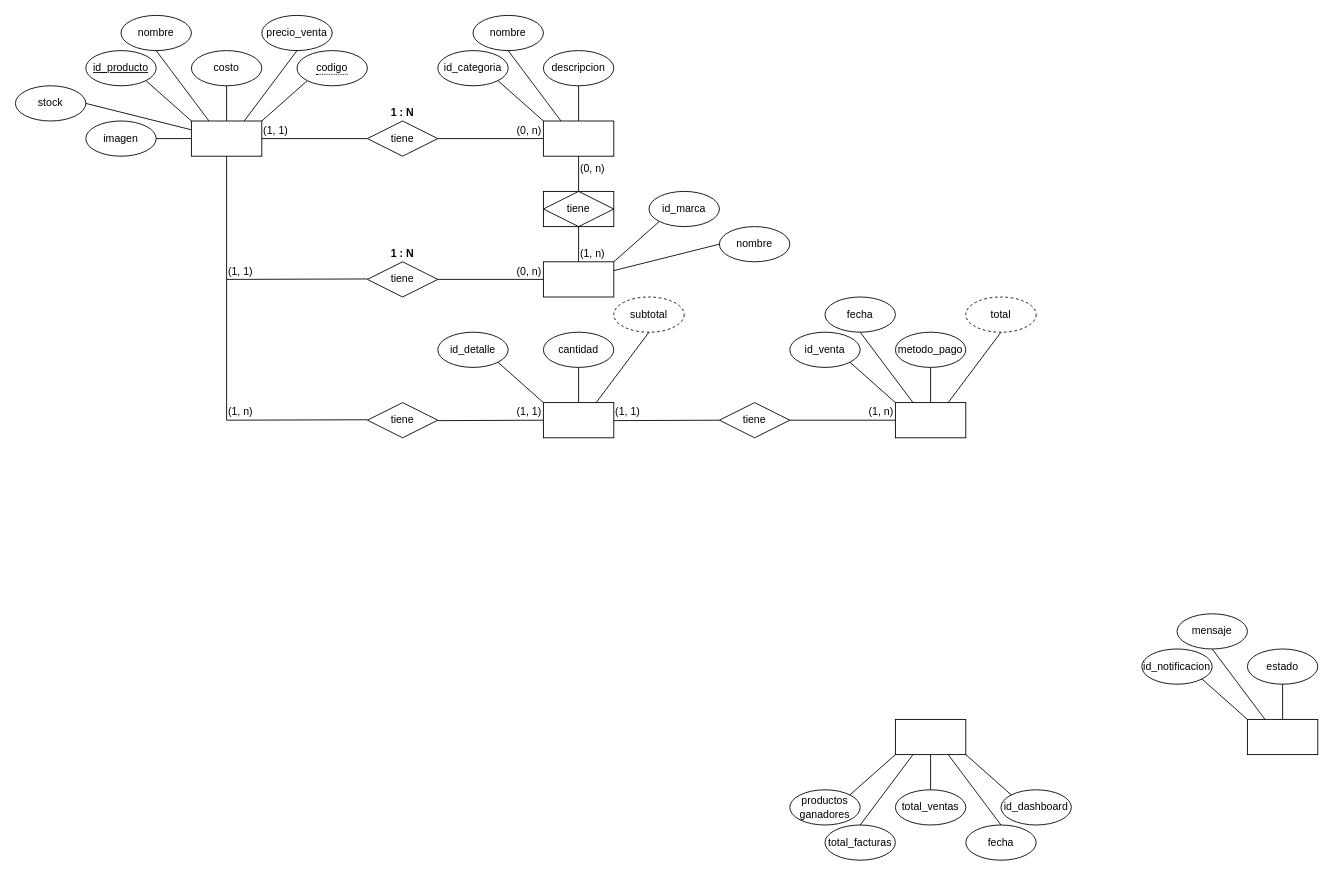
This 1336x876 diagram has some shape labels left out. Each missing label, with the centre of its shape:
CATEGORIA: (x=578, y=138)
DASHBOARD: (x=930, y=737)
DETALLE VENTA: (x=578, y=420)
MARCA: (x=578, y=279)
NOTIFICACION: (x=1282, y=737)
PRODUCTO: (x=226, y=138)
VENTA: (x=930, y=420)
